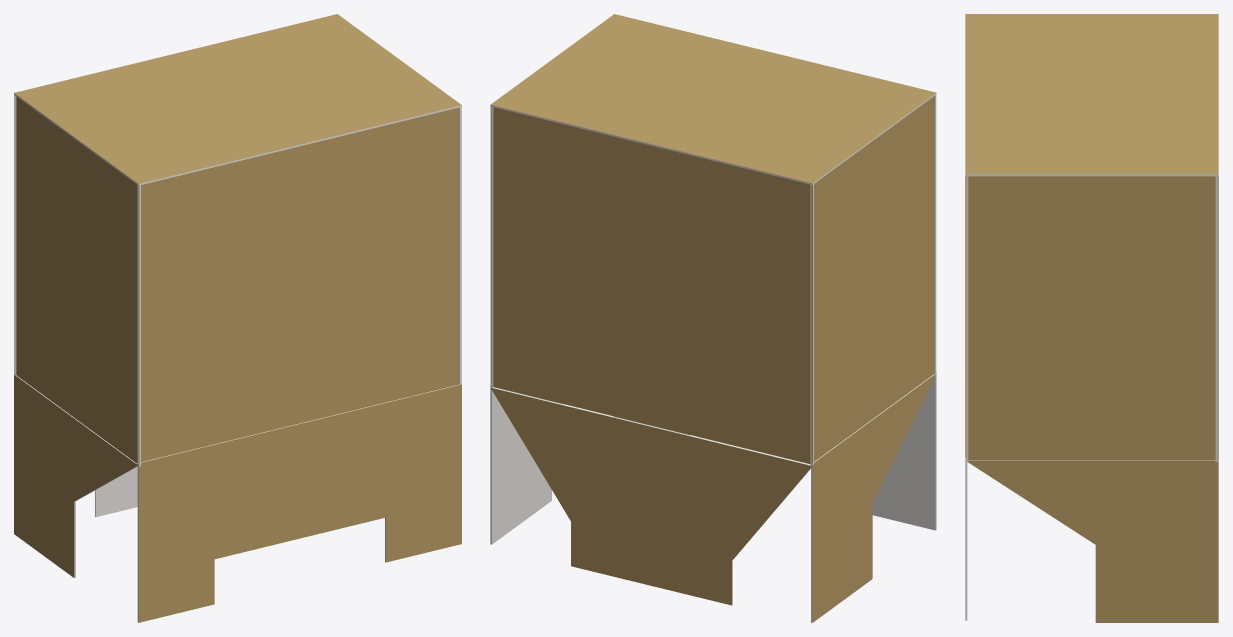
The picture shows the model from 3 angles, left to right: view 1: azimuth 30°, elevation 25°; view 2: azimuth 150°, elevation 25°; view 3: azimuth 270°, elevation 25°; orthographic projection. The views are drawn at different scales.
Parts seen in each view (by area): view 1: Packive_Box_fefco0217; view 2: Packive_Box_fefco0217; view 3: Packive_Box_fefco0217.
Boxes of the visible parts, x1,y1,x2,y2 form: Packive_Box_fefco0217: [14, 14, 461, 622]; Packive_Box_fefco0217: [490, 14, 936, 622]; Packive_Box_fefco0217: [965, 14, 1218, 622].
Bounding box in the file's own units: 0.3 × 0.393 × 0.2.
Materials: 26 (13 with a texture image).
